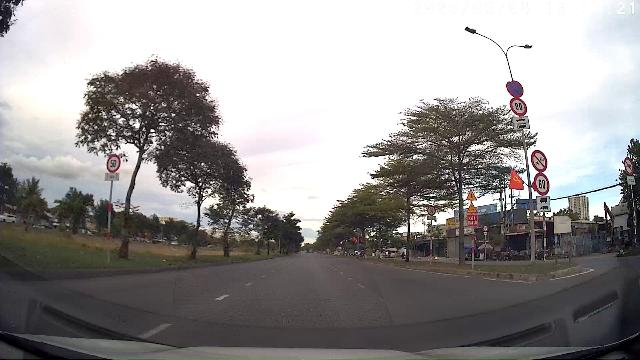127-toc-do-toi-da-50: (106, 154, 122, 172)
127-toc-do-toi-da-60: (534, 172, 550, 195)
127-toc-do-toi-da-80: (510, 99, 528, 115)
130-cam-dung-va-do-xe: (506, 80, 524, 98)
